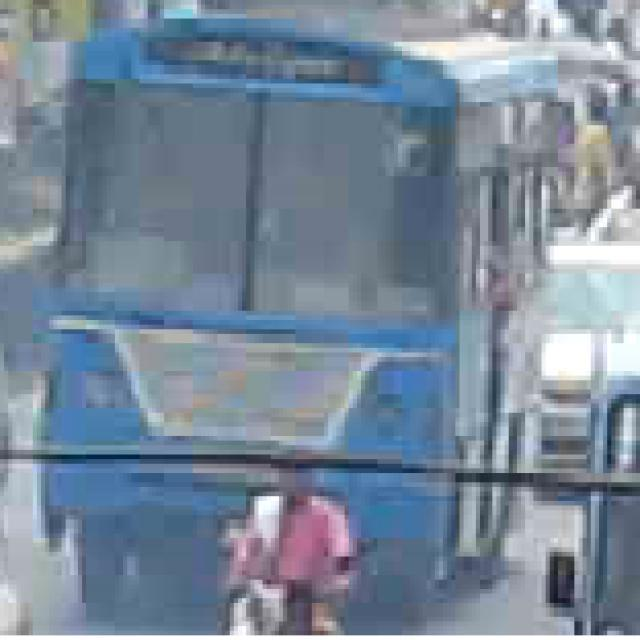bus_front: (33, 10, 566, 619)
car_front: (529, 232, 640, 478)
